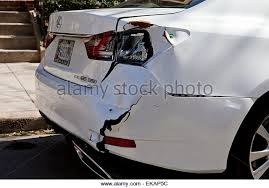Broken-glass: (87, 29, 157, 63)
Dent: (208, 27, 266, 111), (93, 94, 147, 156)
